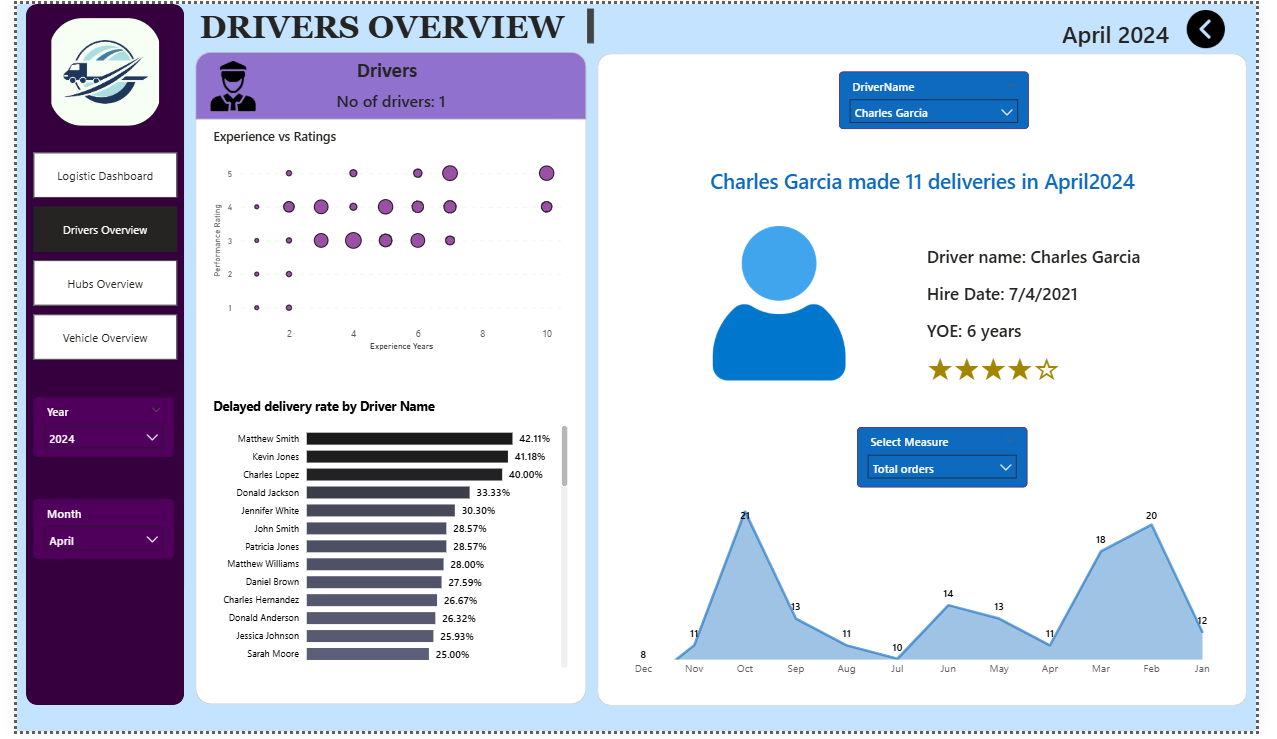

This screenshot's page, from the dashboard's own definition file:
{"tool":"powerbi","page":{"name":"Drivers Overview","canvas":[1450,850],"ordinal":1},"visuals":[{"type":"shape","box":[10,0,185,820],"z":0},{"type":"textbox","box":[209.6,0,470.8,51.6],"z":1000},{"type":"slicer","fields":{"Values":["Date table.Year"]},"box":[20,459.5,164,70],"z":2000},{"type":"slicer","fields":{"Values":["Date table.Month"]},"box":[20,579.5,164,70],"z":3000},{"type":"shape","box":[209.6,56.7,457.1,763],"z":4000},{"type":"shape","box":[209.6,56.7,457.1,79],"z":5000},{"type":"textbox","box":[295.6,58.4,259.5,46.4],"z":6000},{"type":"cardVisual","fields":{"Data":["Drivers.No of derivers"]},"box":[271.5,79,331.6,67],"z":7000},{"type":"scatterChart","title":"Experience vs Ratings","fields":{"X":["Drivers.Experience Years"],"Y":["Drivers.Performance Rating"],"Size":["Sum(Drivers.Experience Years)1"]},"box":[225.1,144.3,424.4,266.3],"z":8000},{"type":"barChart","fields":{"Category":["Orders.Driver Name"],"Y":["Orders.Delayed delivery rate"]},"box":[225.1,458.8,424.4,321.3],"z":9000},{"type":"image","box":[36.1,15.5,132.3,127.2],"z":10000},{"type":"cardVisual","fields":{"Data":["Orders.Year month title"]},"box":[1118.7,0,331.6,67],"z":11000},{"type":"shape","box":[678.8,58.4,759.5,763],"z":12000},{"type":"slicer","fields":{"Values":["Drivers.DriverName"]},"box":[960.6,79,221.7,67],"z":13000},{"type":"cardVisual","fields":{"Data":["Drivers.Drivers Title"]},"box":[702.8,171.8,711.4,67],"z":14000},{"type":"cardVisual","fields":{"Data":["Drivers.Driver name title","Drivers.Hire date title","Drivers.YOE","Drivers.Star rating"]},"box":[1034.5,259.5,354,199.3],"z":15000},{"type":"image","box":[773.3,259.5,235.4,180.4],"z":16000},{"type":"areaChart","fields":{"Y":["Orders.Total orders"],"Category":["Date table.Month Abr"]},"box":[702.8,579.1,711.4,216.5],"z":17000},{"type":"slicer","fields":{"Values":["Select Measure.Select Measure"]},"box":[982.9,494.9,199.3,70.5],"z":18000},{"type":"image","box":[1342,6.9,96.2,44.7],"z":19000},{"type":"pageNavigator","box":[18.9,173.6,168.4,244],"z":19001},{"type":"image","box":[207.9,67,87.6,58.4],"z":19002}]}

Visuals, with their boxes in screenshot pixels (x1, y1, x2, y2), scaled from the page's 1450x850 canvas onto the 1277x739 screenshot:
shape: box(9, 0, 172, 713)
textbox: box(185, 0, 599, 45)
slicer - Date table.Year: box(18, 399, 162, 460)
slicer - Date table.Month: box(18, 504, 162, 565)
shape: box(185, 49, 587, 713)
shape: box(185, 49, 587, 118)
textbox: box(260, 51, 489, 91)
cardVisual - Drivers.No of derivers: box(239, 69, 531, 127)
"Experience vs Ratings" scatterChart: box(198, 125, 572, 357)
barChart - Orders.Driver Name x Orders.Delayed delivery rate: box(198, 399, 572, 678)
image: box(32, 13, 148, 124)
cardVisual - Orders.Year month title: box(985, 0, 1276, 58)
shape: box(598, 51, 1267, 714)
slicer - Drivers.DriverName: box(846, 69, 1041, 127)
cardVisual - Drivers.Drivers Title: box(619, 149, 1245, 208)
cardVisual - Drivers.Driver name title x Drivers.Hire date title: box(911, 226, 1223, 399)
image: box(681, 226, 888, 382)
areaChart - Orders.Total orders x Date table.Month Abr: box(619, 503, 1245, 692)
slicer - Select Measure.Select Measure: box(866, 430, 1041, 492)
image: box(1182, 6, 1267, 45)
pageNavigator: box(17, 151, 165, 363)
image: box(183, 58, 260, 109)
